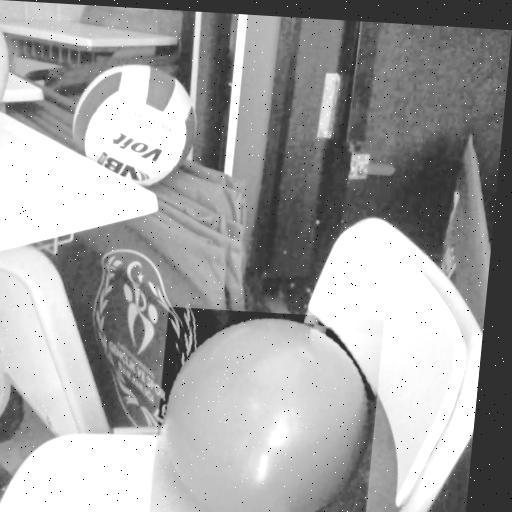balloon: (148, 307, 384, 512)
